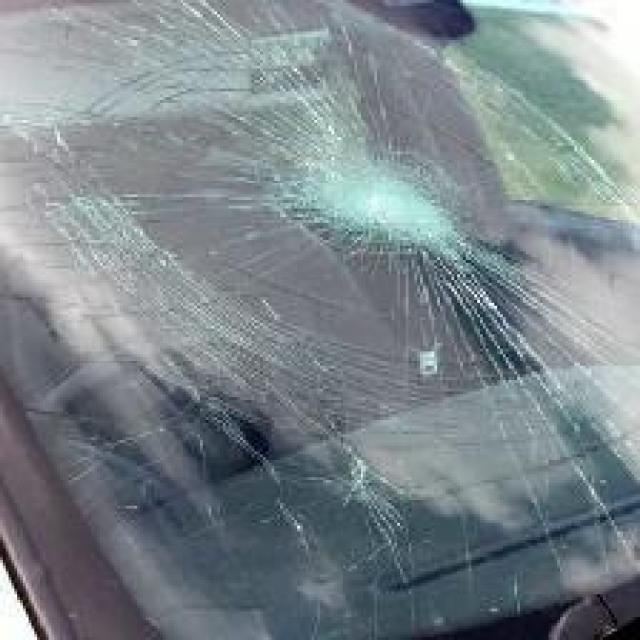damaged: (123, 31, 626, 468)
